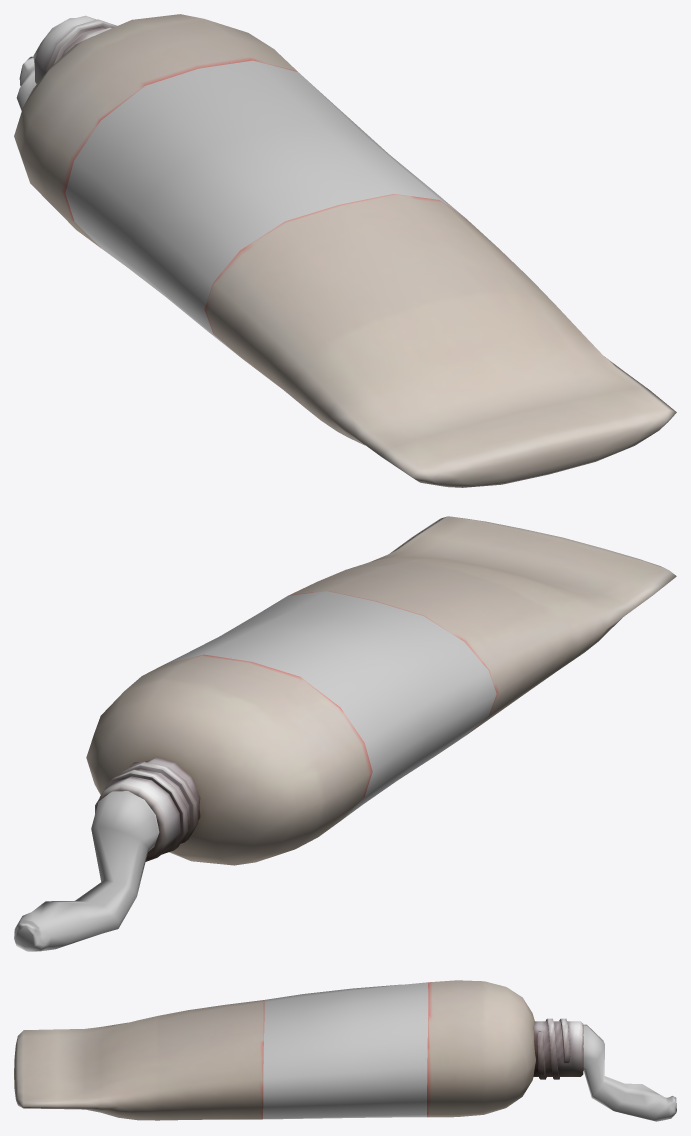
File: SM_PaintTube_Open.fbx
3 views of the same model, one above another, from view 1: azimuth 30°, elevation 25°; view 2: azimuth 150°, elevation 25°; view 3: azimuth 270°, elevation 25° (orthographic). The views are drawn at different scales.
Parts seen in each view (by area): view 1: SM_PaintTube_Open_LOD0; view 2: SM_PaintTube_Open_LOD0; view 3: SM_PaintTube_Open_LOD0.
Boxes of the visible parts, x1,y1,x2,y2 form: SM_PaintTube_Open_LOD0: (14, 14, 676, 487); SM_PaintTube_Open_LOD0: (14, 516, 676, 951); SM_PaintTube_Open_LOD0: (14, 980, 676, 1121).
Bounding box in the file's own units: 5.62 × 20.3 × 3.93.
Materials: 2 (1 with a texture image).
